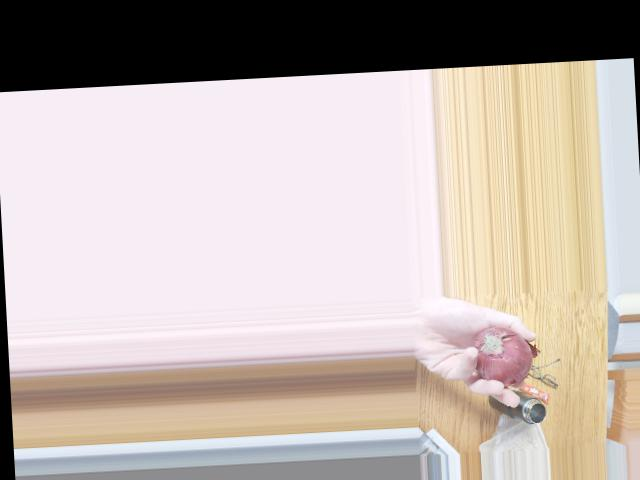onion: (464, 324, 533, 387)
